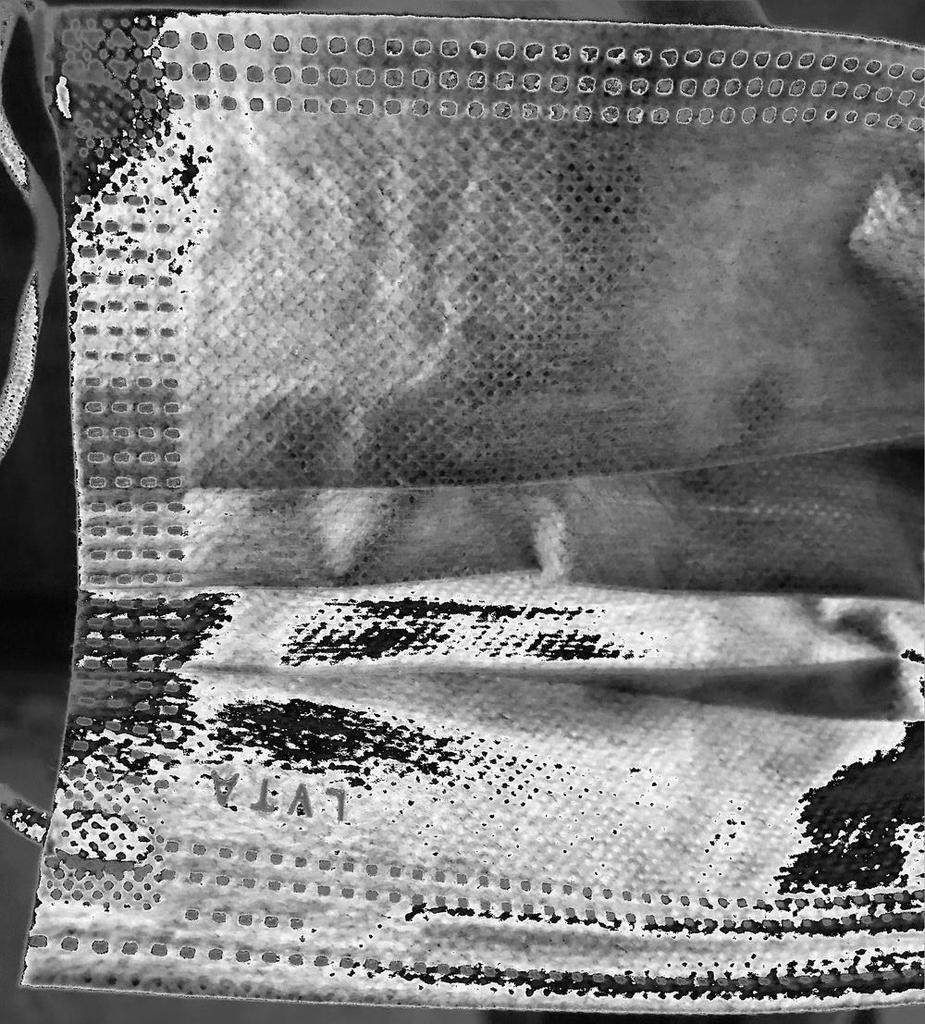High GSM: (17, 1, 925, 1016)
